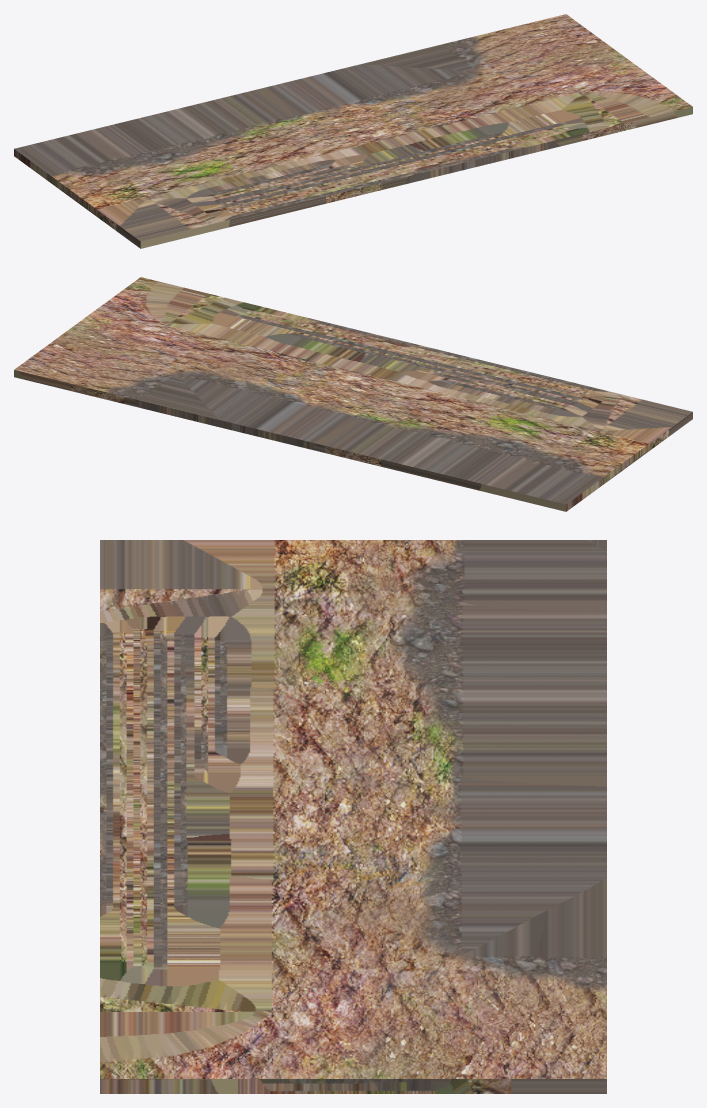
File: Z1-P-Block 2.fbx
3 renders of one model, top to bottom at view 1: azimuth 30°, elevation 25°; view 2: azimuth 150°, elevation 25°; view 3: azimuth 270°, elevation 25°, orthographic. The views are drawn at different scales.
Parts seen in each view (by area): view 1: Z1_P_Block_2; view 2: Z1_P_Block_2; view 3: Z1_P_Block_2.
Boxes of the visible parts, x1,y1,x2,y2 form: Z1_P_Block_2: (14,14,692,248); Z1_P_Block_2: (14,277,692,511); Z1_P_Block_2: (100,540,606,1093).
Size of the model in its own units: 1730 by 21.99 by 688.
Materials: 1 (1 with a texture image).
